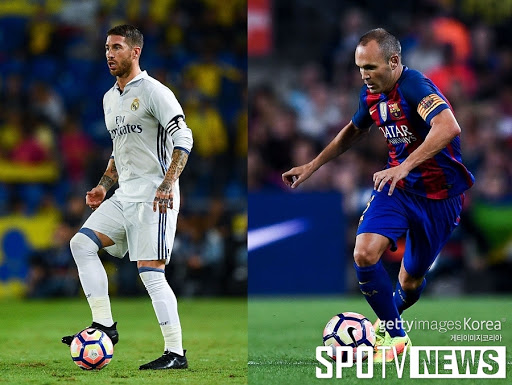barcelona: (273, 23, 467, 368)
realmadrid: (37, 24, 201, 377)
